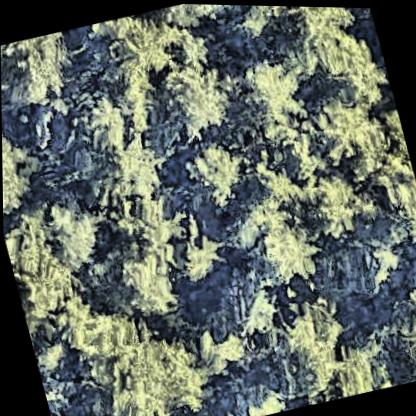tree-top: (101, 330, 214, 416), (269, 296, 351, 399), (105, 7, 196, 91), (153, 51, 234, 144), (228, 51, 314, 137), (0, 29, 81, 117), (28, 193, 109, 279), (176, 131, 256, 213), (244, 213, 324, 295), (310, 93, 387, 174), (300, 164, 375, 247), (325, 21, 392, 113), (108, 244, 183, 326), (170, 223, 233, 290), (2, 129, 44, 219), (387, 274, 416, 376), (227, 381, 295, 416)
